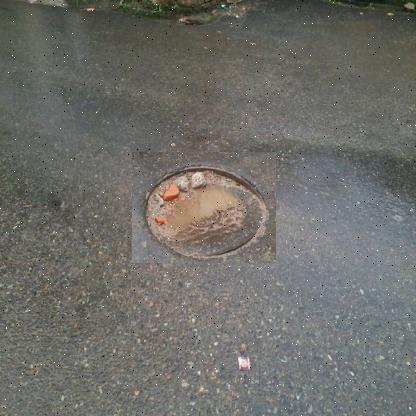pothole_water: (131, 152, 276, 264)
